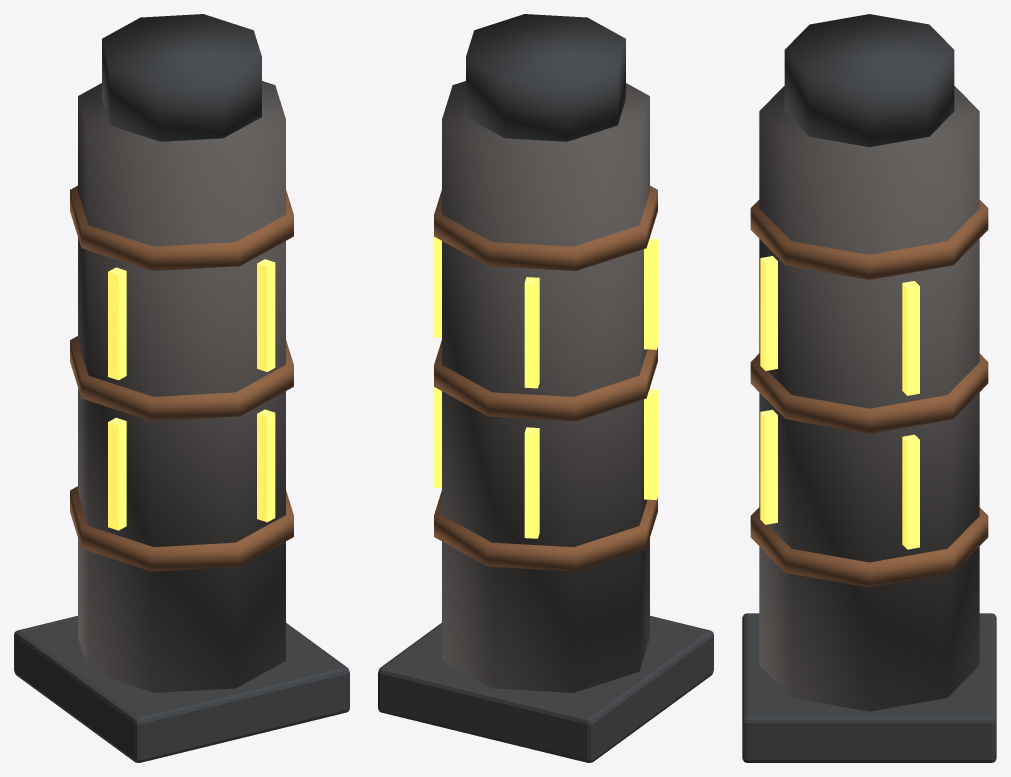
The model's file is furnace_pillar.glb.
3 renders of one model, left to right at view 1: azimuth 30°, elevation 25°; view 2: azimuth 150°, elevation 25°; view 3: azimuth 270°, elevation 25°, orthographic. The views are drawn at different scales.
Parts seen in each view (by area): view 1: furnace_pillar; view 2: furnace_pillar; view 3: furnace_pillar.
Boxes of the visible parts, <box> form: furnace_pillar: <box>14,14,349,762</box>; furnace_pillar: <box>378,14,713,762</box>; furnace_pillar: <box>742,14,996,762</box>.
Bounding box in the file's own units: 1.5 × 4.3 × 1.5.
